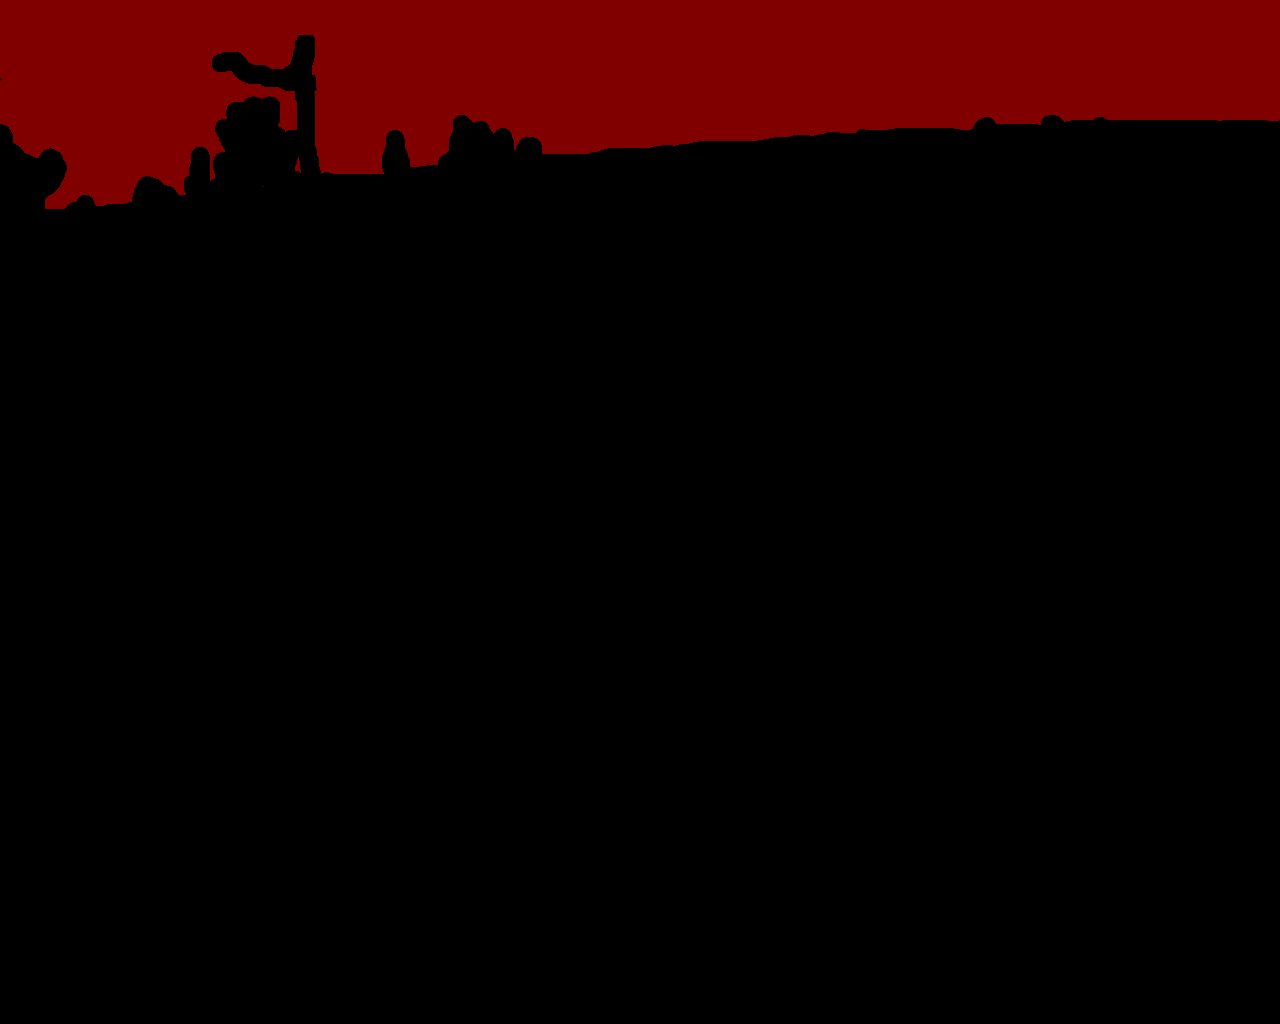Sky: (1, 1, 1279, 209)
